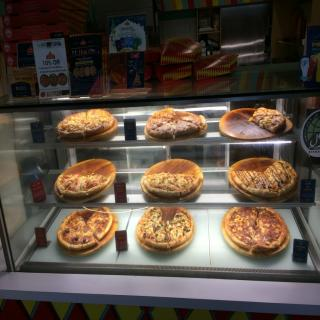Pizza: (220, 209, 288, 258), (142, 169, 202, 199), (56, 108, 113, 138), (57, 208, 98, 249), (55, 173, 112, 197), (138, 204, 167, 248), (163, 208, 194, 246), (85, 206, 114, 242), (246, 172, 278, 197), (264, 168, 295, 192), (252, 116, 288, 134), (173, 118, 204, 135), (148, 119, 174, 139), (270, 158, 296, 177), (231, 170, 257, 188), (250, 103, 282, 117), (147, 116, 171, 134), (150, 103, 174, 118), (182, 112, 205, 127)
